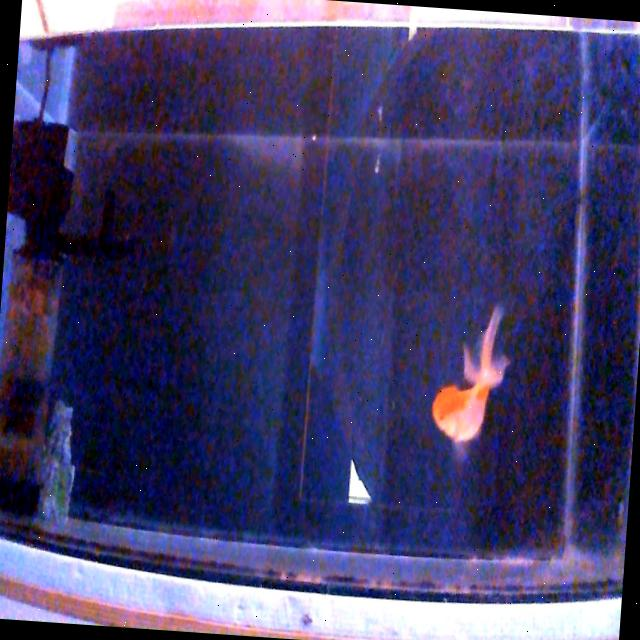fish: (426, 296, 514, 446)
